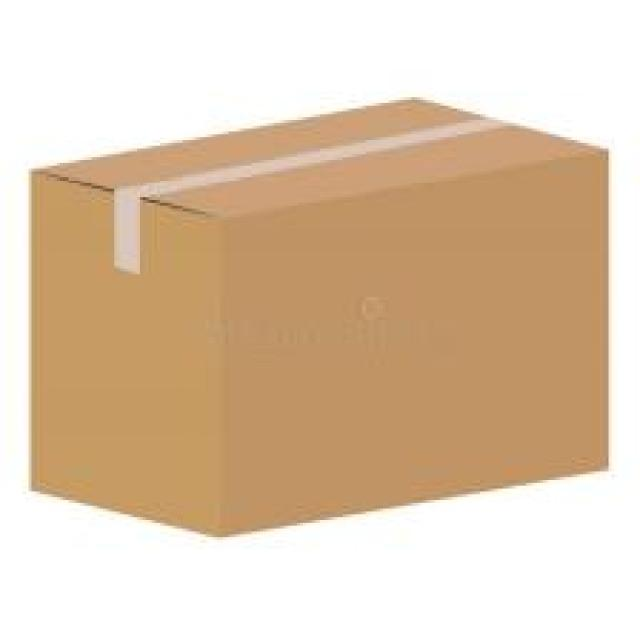box: (28, 98, 611, 538)
